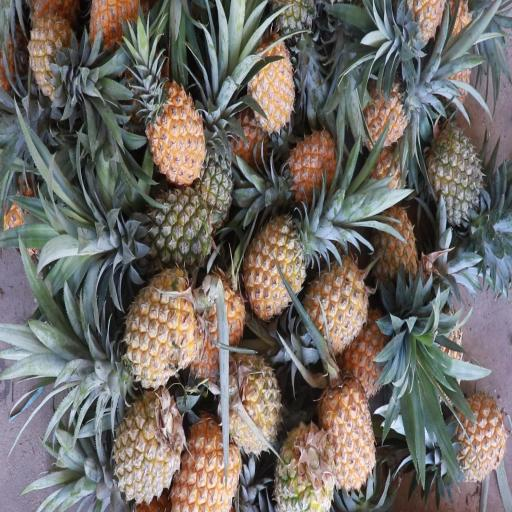Pineapple - v8 v1: (110, 388, 188, 512), (124, 266, 200, 389), (240, 186, 307, 319), (302, 232, 373, 356), (172, 406, 247, 512), (142, 72, 210, 187), (216, 339, 283, 452), (316, 370, 375, 492), (238, 22, 297, 127), (448, 388, 507, 488), (371, 190, 426, 290), (282, 110, 337, 206), (26, 7, 77, 110), (358, 69, 412, 155)
